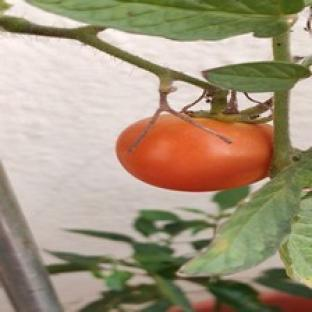Tomato: (116, 115, 272, 192)
